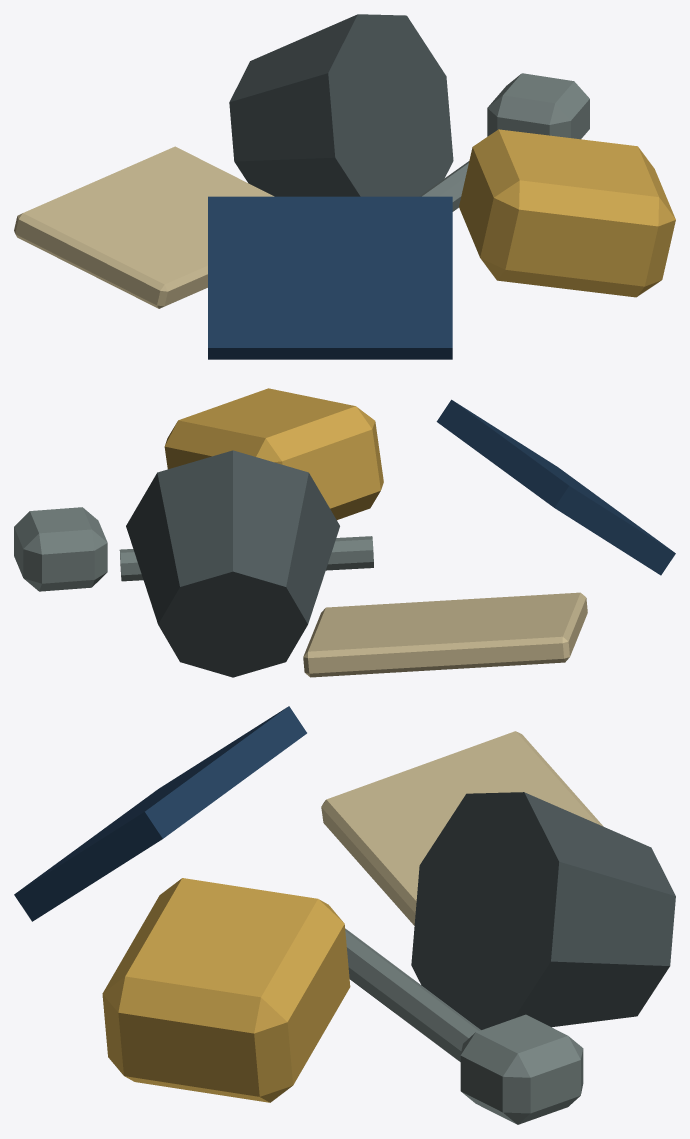
The model's file is ab_debris_small.glb.
3 renders of one model, top to bottom at view 1: azimuth 30°, elevation 25°; view 2: azimuth 150°, elevation 25°; view 3: azimuth 270°, elevation 25°, orthographic. The views are drawn at different scales.
Visible parts, largest first — view 1: ab_debris_small; view 2: ab_debris_small; view 3: ab_debris_small.
Boxes of the visible parts, box(x1,y1,x2,y2) form: ab_debris_small: box(14, 14, 675, 359); ab_debris_small: box(14, 388, 675, 677); ab_debris_small: box(14, 706, 675, 1124).
Bounding box in the file's own units: 1.19 × 0.4084 × 1.01.
